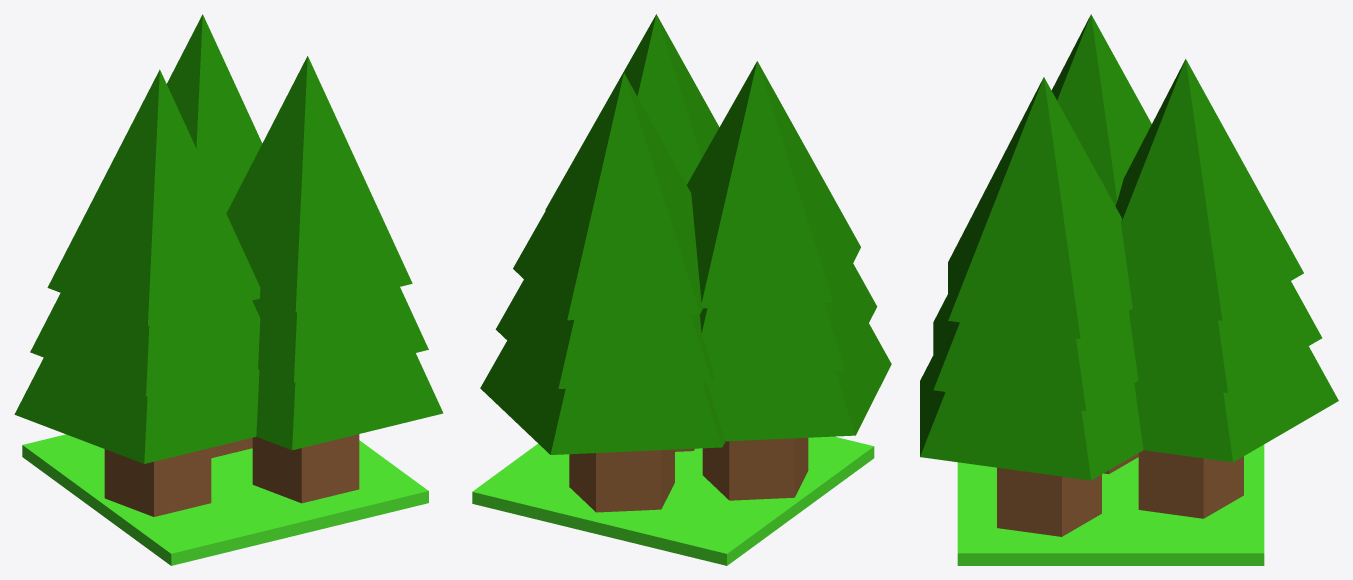
The model's file is world15.fbx.
3 views of the same model, side by side, from view 1: azimuth 30°, elevation 25°; view 2: azimuth 150°, elevation 25°; view 3: azimuth 270°, elevation 25° (orthographic). The views are drawn at different scales.
Visible parts, largest first — view 1: Cylinder.011, Cylinder.010, Cube.126, Cylinder.013; view 2: Cylinder.013, Cylinder.011, Cube.126, Cylinder.010; view 3: Cylinder.010, Cylinder.013, Cube.126, Cylinder.011.
Boxes of the visible parts, x1=… form: Cylinder.011: x1=14, y1=69, x2=260, y2=516; Cylinder.010: x1=226, y1=56, x2=443, y2=503; Cube.126: x1=22, y1=434, x2=428, y2=565; Cylinder.013: x1=167, y1=14, x2=262, y2=458; Cylinder.013: x1=480, y1=73, x2=725, y2=512; Cylinder.011: x1=687, y1=61, x2=891, y2=500; Cube.126: x1=472, y1=436, x2=874, y2=565; Cylinder.010: x1=545, y1=14, x2=719, y2=451; Cylinder.010: x1=920, y1=77, x2=1143, y2=536; Cylinder.013: x1=1115, y1=59, x2=1338, y2=518; Cube.126: x1=957, y1=444, x2=1264, y2=565; Cylinder.011: x1=1051, y1=14, x2=1151, y2=473.
Size of the model in its own units: 574 by 647 by 547.
